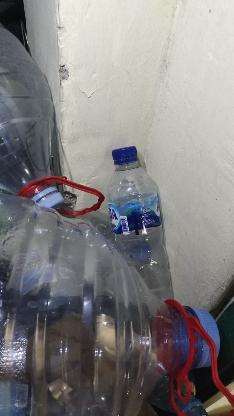Plastic Bottle: (0, 29, 110, 411), (104, 146, 227, 414)
